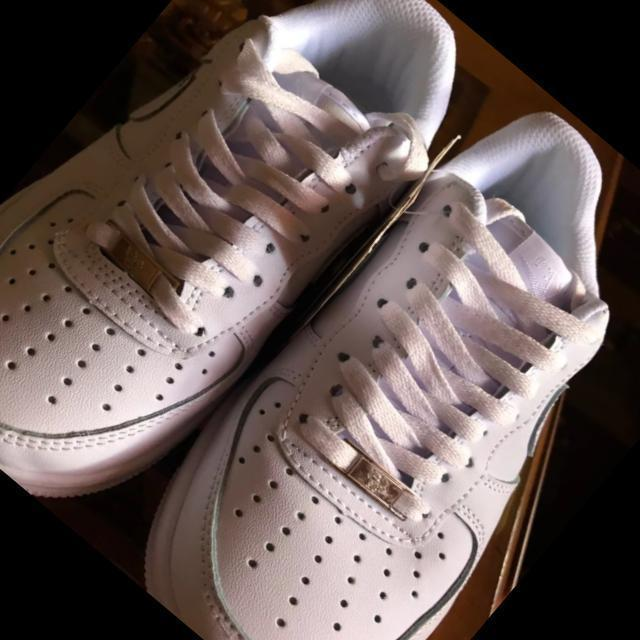nike fake air force: (98, 65, 640, 640), (0, 0, 518, 561)
